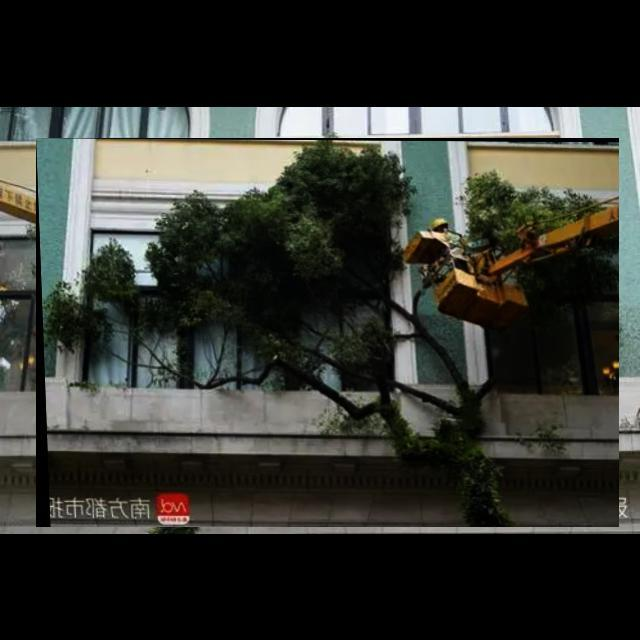fallen_tree: (36, 138, 620, 528)
